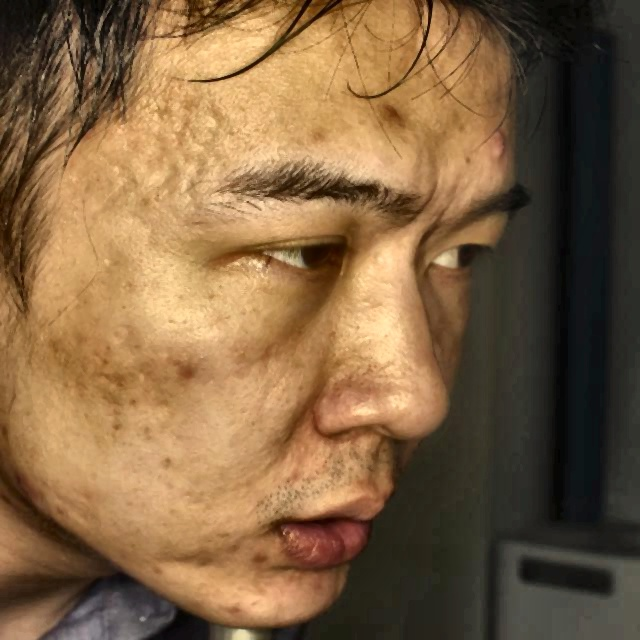comedone: (473, 126, 515, 167), (217, 591, 244, 621), (170, 360, 203, 379), (249, 544, 271, 568), (375, 95, 398, 117)
